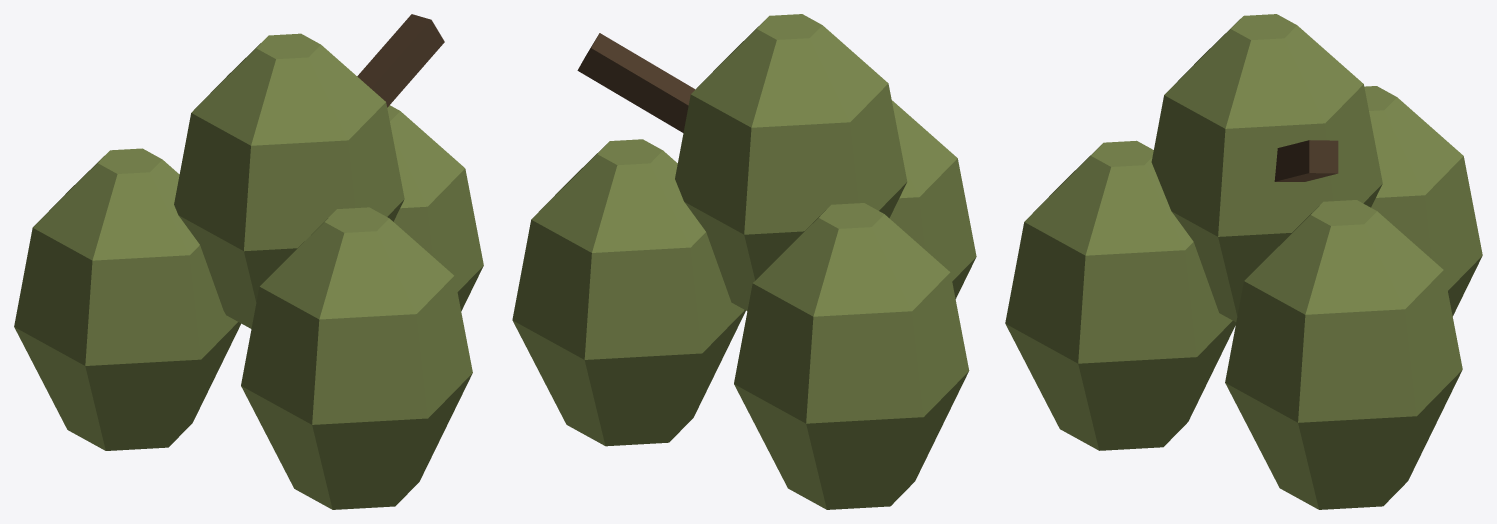
The model's file is hops.glb.
The picture shows the model from 3 angles, left to right: view 1: azimuth 30°, elevation 25°; view 2: azimuth 150°, elevation 25°; view 3: azimuth 270°, elevation 25°; orthographic projection. The views are drawn at different scales.
Visible parts, largest first — view 1: hops; view 2: hops; view 3: hops.
Part boxes in pixels (x1,y1,x2,y2): hops: (14, 14, 483, 509); hops: (512, 14, 976, 509); hops: (1005, 14, 1482, 509).
Size of the model in its own units: 0.4917 by 0.44 by 0.4779.
